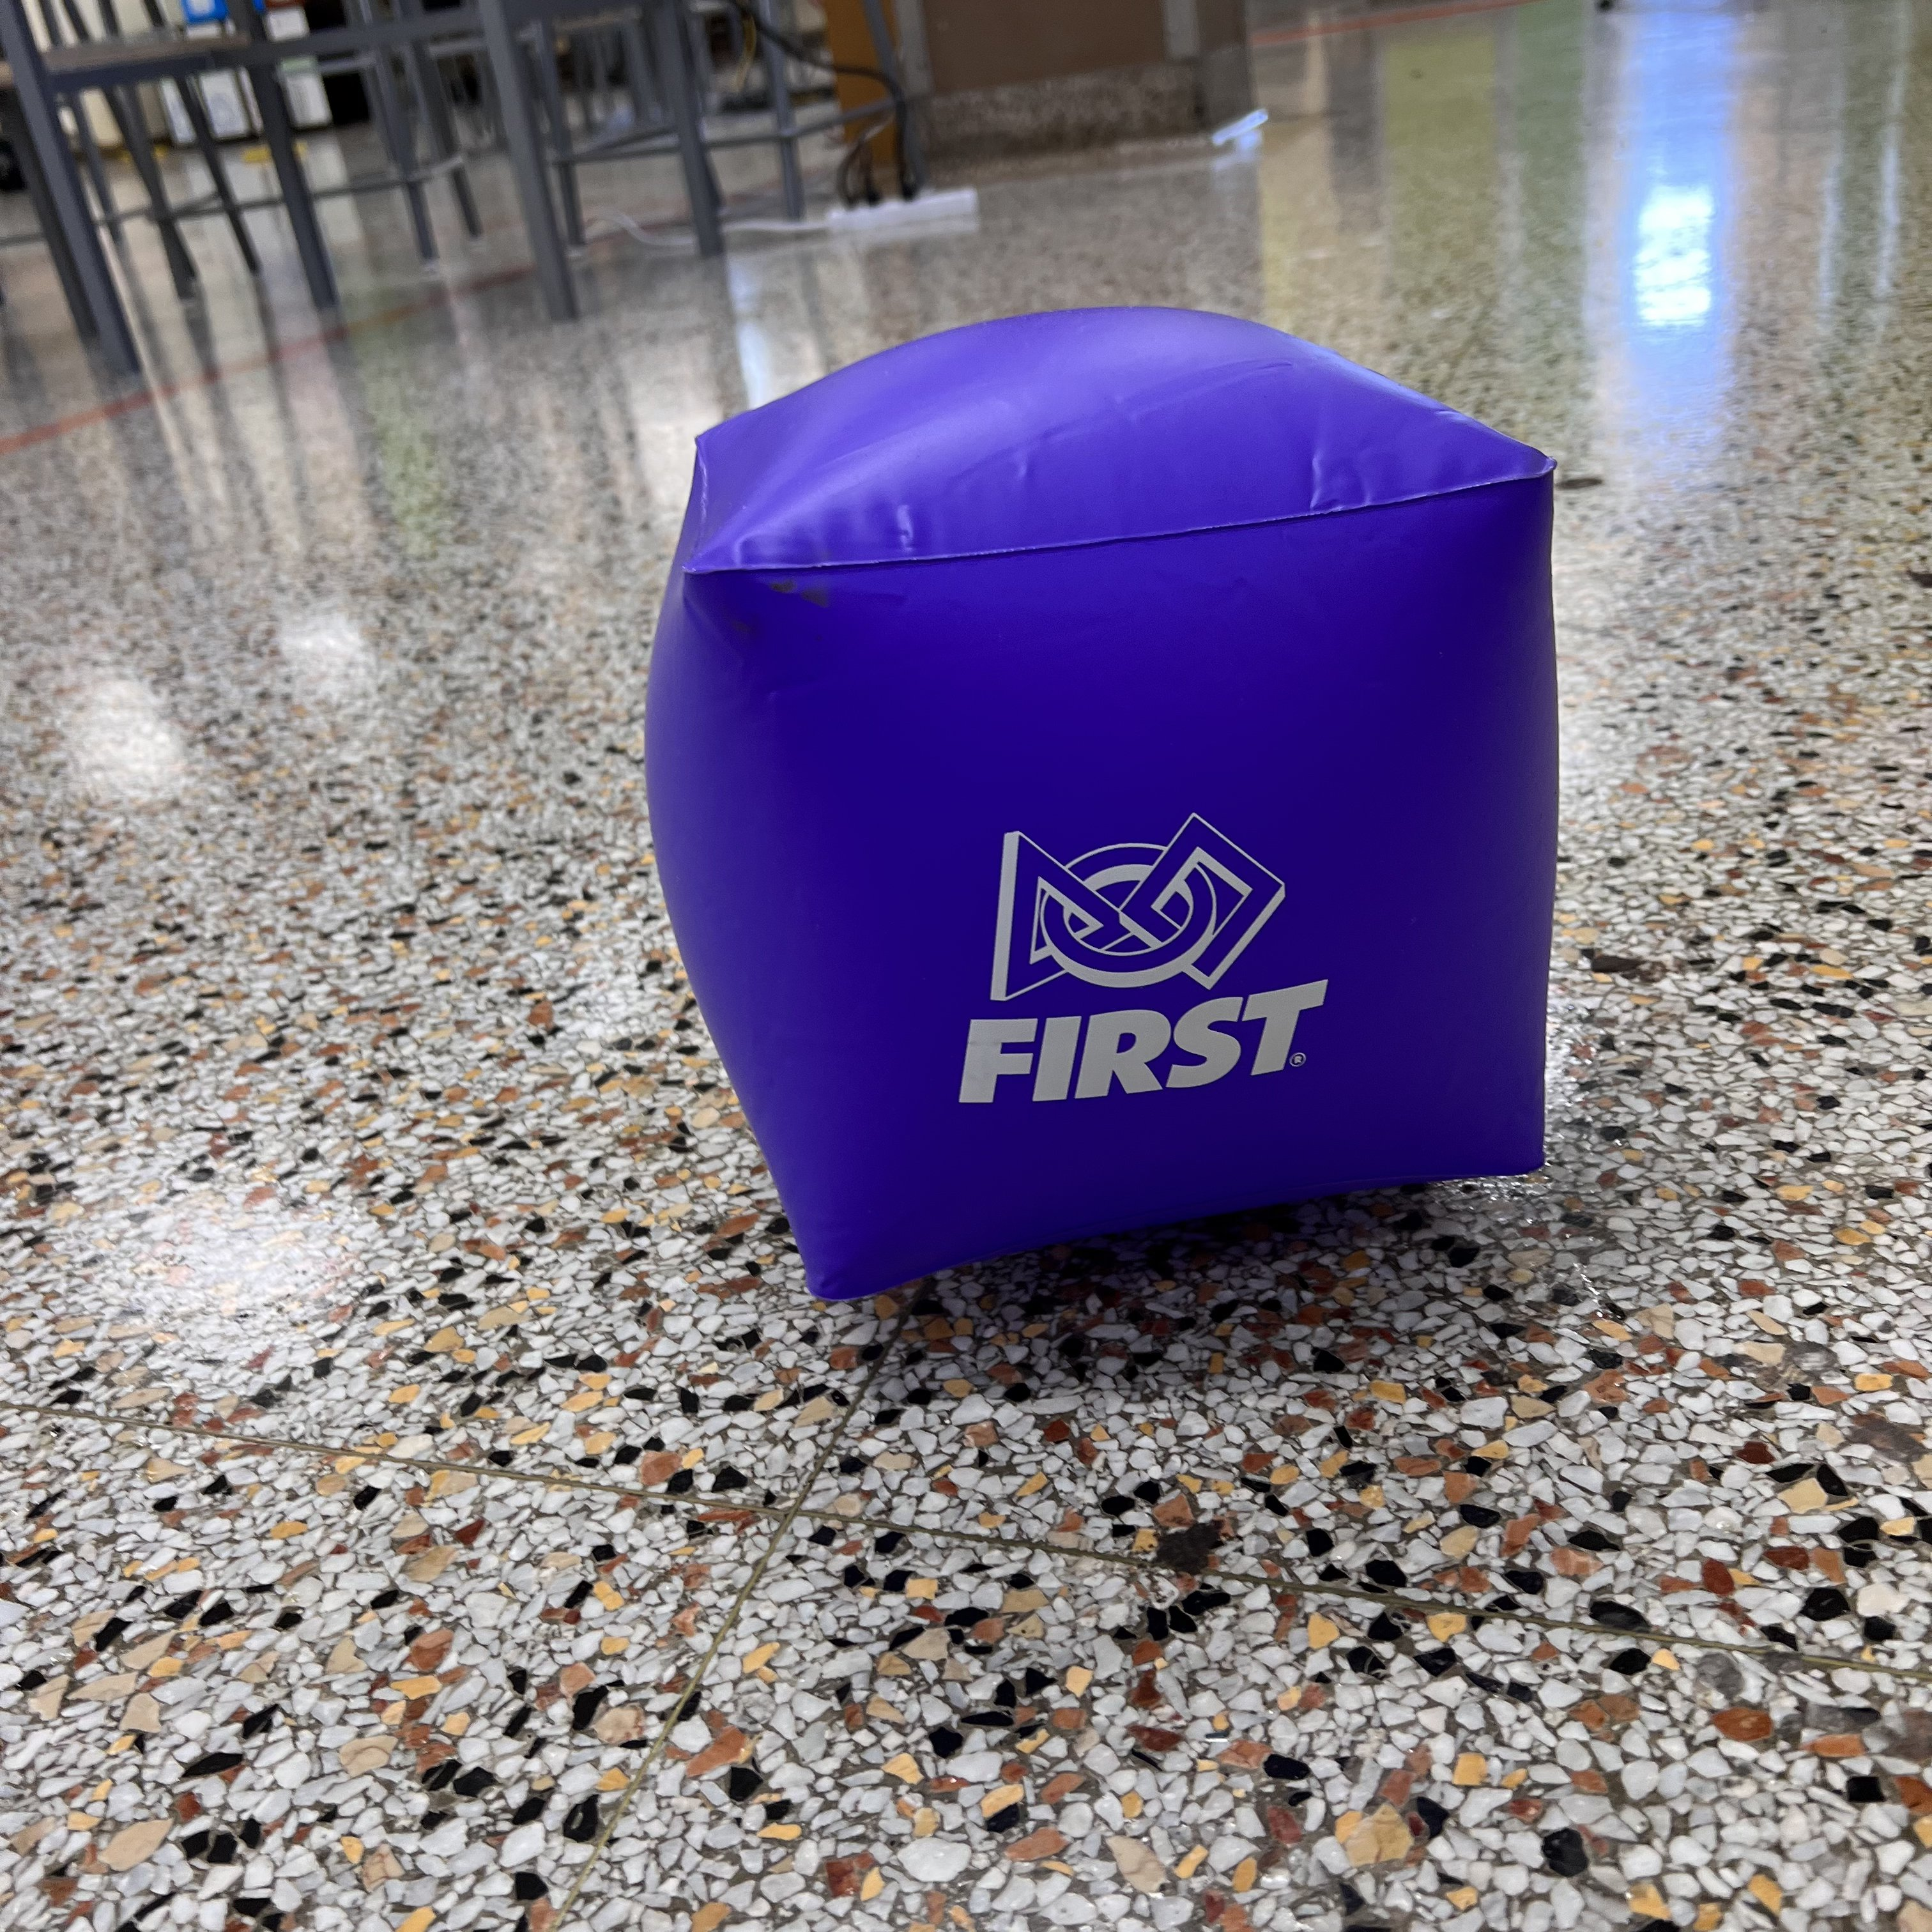cube: (642, 306, 1559, 1299)
